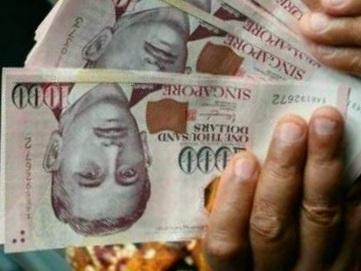1000SingaporeDollar: (7, 78, 342, 244)
